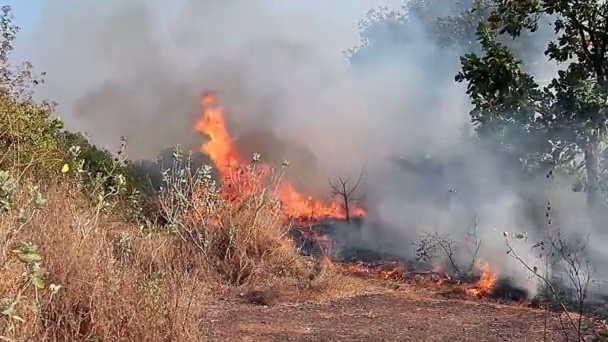fire: (193, 100, 232, 172), (279, 191, 340, 217), (479, 267, 494, 292), (61, 163, 68, 172)
